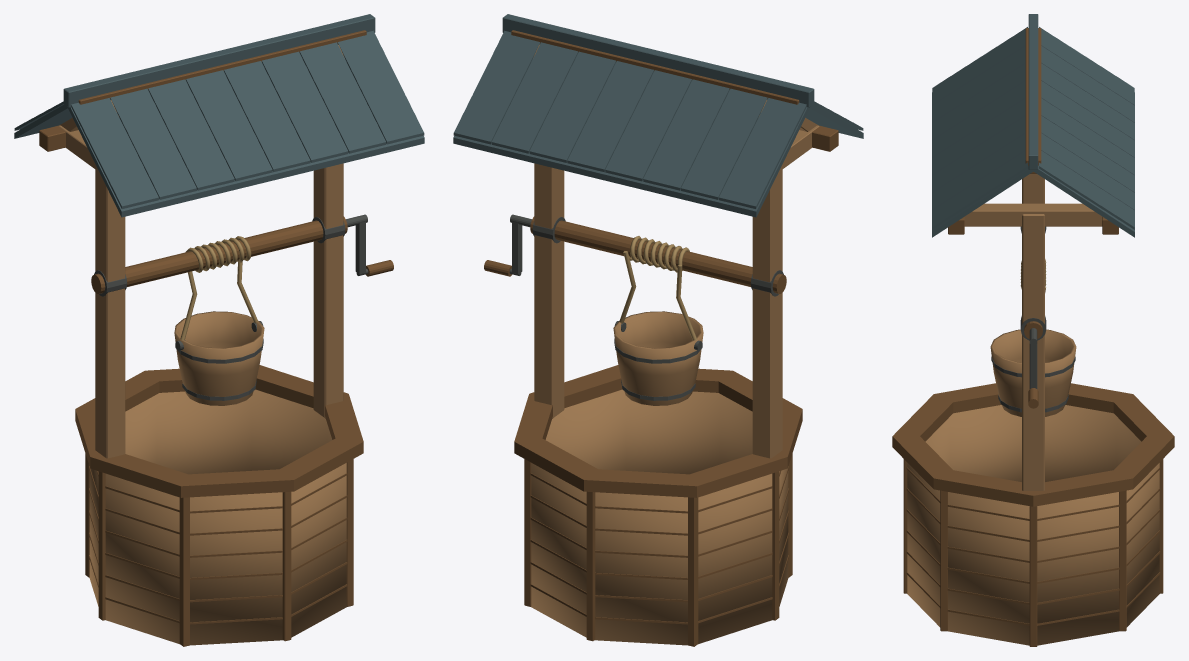
Rendered from A-NEW-20261027-GARDEN-WELL-001_LOD2_R3.glb.
3 views of the same model, side by side, from view 1: azimuth 30°, elevation 25°; view 2: azimuth 150°, elevation 25°; view 3: azimuth 270°, elevation 25° (orthographic). The views are drawn at different scales.
Parts seen in each view (by area): view 1: open octagonal well wall, wide octagonal open rim, roof support post -0.54, roof support post 0.54, hollow curved stave bucket, ridge cap, horizontal wooden spindle, pitched roof substrate -1, ridge timber, corner stile 5, corner stile 6, continuous spindle rope coil (+59 smaller); view 2: open octagonal well wall, wide octagonal open rim, roof support post -0.54, roof support post 0.54, hollow curved stave bucket, ridge cap, horizontal wooden spindle, pitched roof substrate 1, ridge timber, corner stile 3, corner stile 2, corner stile 4 (+59 smaller); view 3: open octagonal well wall, wide octagonal open rim, roof support post 0.54, hollow curved stave bucket, post crossbar 0.54, ridge cap, corner stile 0, corner stile 1, corner stile 7, ridge timber, pitched roof substrate -1, pitched roof substrate 1 (+9 smaller).
Boxes of the visible parts, bbox=[...] form: open octagonal well wall: bbox=[89, 389, 346, 645]; wide octagonal open rim: bbox=[75, 365, 363, 497]; roof support post -0.54: bbox=[95, 164, 125, 458]; roof support post 0.54: bbox=[313, 163, 343, 418]; hollow curved stave bucket: bbox=[174, 311, 264, 405]; ridge cap: bbox=[63, 14, 375, 107]; horizontal wooden spindle: bbox=[91, 216, 347, 294]; pitched roof substrate -1: bbox=[68, 107, 424, 217]; ridge timber: bbox=[78, 30, 366, 104]; corner stile 5: bbox=[179, 497, 189, 646]; corner stile 6: bbox=[282, 491, 291, 641]; continuous spindle rope coil: bbox=[186, 236, 251, 272]; open octagonal well wall: bbox=[531, 389, 788, 645]; wide octagonal open rim: bbox=[514, 365, 802, 497]; roof support post -0.54: bbox=[752, 164, 782, 458]; roof support post 0.54: bbox=[534, 163, 564, 418]; hollow curved stave bucket: bbox=[613, 311, 703, 405]; ridge cap: bbox=[502, 14, 814, 107]; horizontal wooden spindle: bbox=[530, 216, 786, 294]; pitched roof substrate 1: bbox=[453, 107, 809, 217]; ridge timber: bbox=[511, 30, 799, 104]; corner stile 3: bbox=[688, 497, 698, 646]; corner stile 2: bbox=[586, 491, 595, 641]; corner stile 4: bbox=[772, 471, 779, 620]; open octagonal well wall: bbox=[907, 405, 1159, 645]; wide octagonal open rim: bbox=[892, 383, 1174, 506]; roof support post 0.54: bbox=[1022, 214, 1044, 490]; hollow curved stave bucket: bbox=[990, 329, 1076, 416]; post crossbar 0.54: bbox=[964, 203, 1102, 226]; ridge cap: bbox=[1028, 14, 1038, 169]; corner stile 0: bbox=[1029, 506, 1037, 646]; corner stile 1: bbox=[1119, 490, 1126, 631]; corner stile 7: bbox=[940, 490, 947, 631]; ridge timber: bbox=[1025, 28, 1041, 173]; pitched roof substrate -1: bbox=[932, 92, 1033, 237]; pitched roof substrate 1: bbox=[1033, 92, 1134, 237].
Size of the model in its own units: 1.61 by 2.54 by 1.28.
